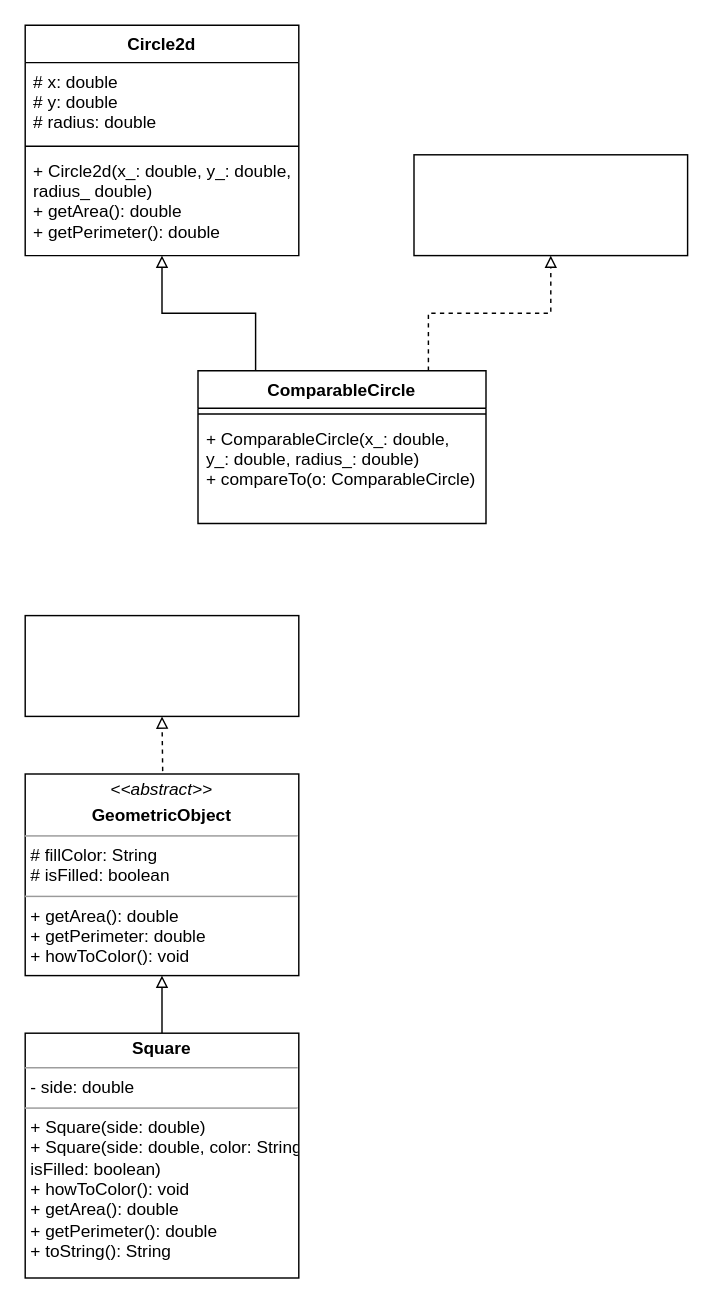
This 713x1303 diagram has some shape labels left out. The centre of each missing label's shape, as x and y in pixels:
<<Interface>> Colorable + howToColor(): void: pixel 161 665
<<Interface>> Comparable<T> + compareTo(T): int: pixel 550 204
